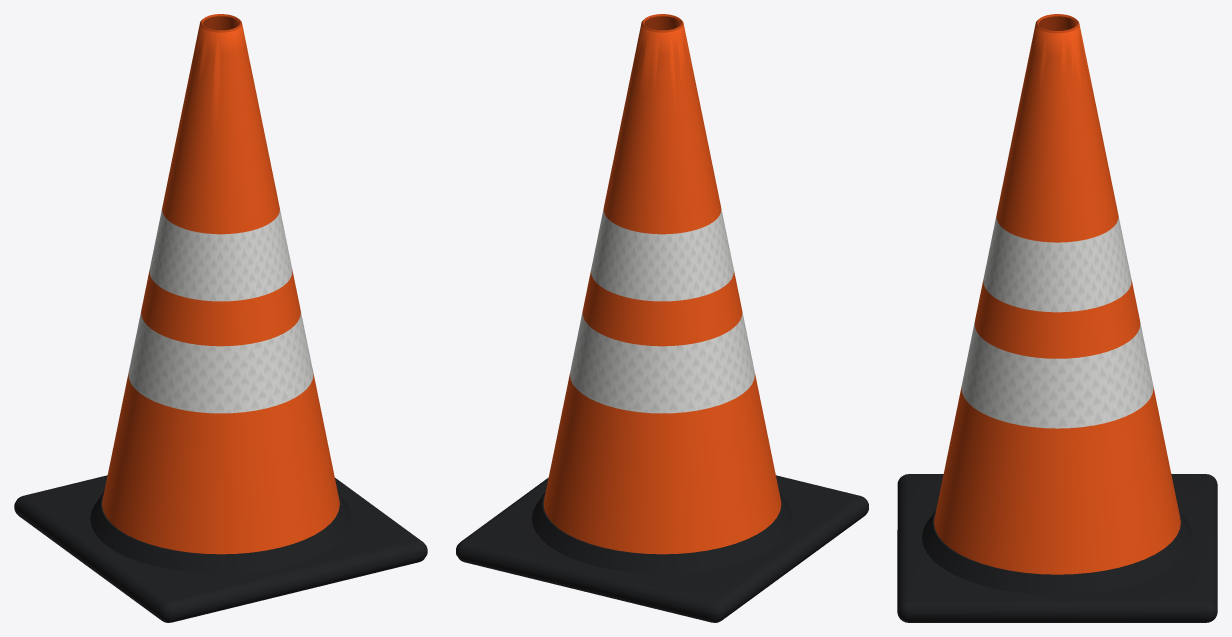
File: traffic-cone.glb
3 renders of one model, left to right at view 1: azimuth 30°, elevation 25°; view 2: azimuth 150°, elevation 25°; view 3: azimuth 270°, elevation 25°, orthographic. The views are drawn at different scales.
Parts seen in each view (by area): view 1: traffic-cone_body, traffic-cone_base; view 2: traffic-cone_body, traffic-cone_base; view 3: traffic-cone_body, traffic-cone_base.
Boxes of the visible parts, box(x1,y1,x2,y2) form: traffic-cone_body: box(102, 14, 339, 554); traffic-cone_base: box(14, 475, 427, 622); traffic-cone_body: box(543, 14, 781, 554); traffic-cone_base: box(456, 475, 868, 622); traffic-cone_body: box(934, 14, 1180, 574); traffic-cone_base: box(897, 474, 1217, 622).
Bounding box in the file's own units: 0.38 × 0.702 × 0.38.
4 materials, 1 textured.
